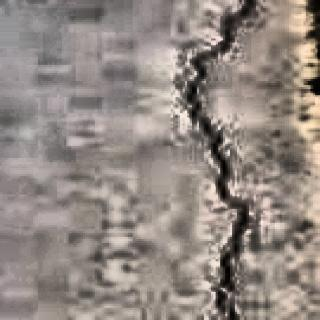crack: (209, 194, 254, 320), (184, 102, 233, 198), (182, 50, 216, 106), (215, 12, 242, 59), (237, 0, 256, 18)
